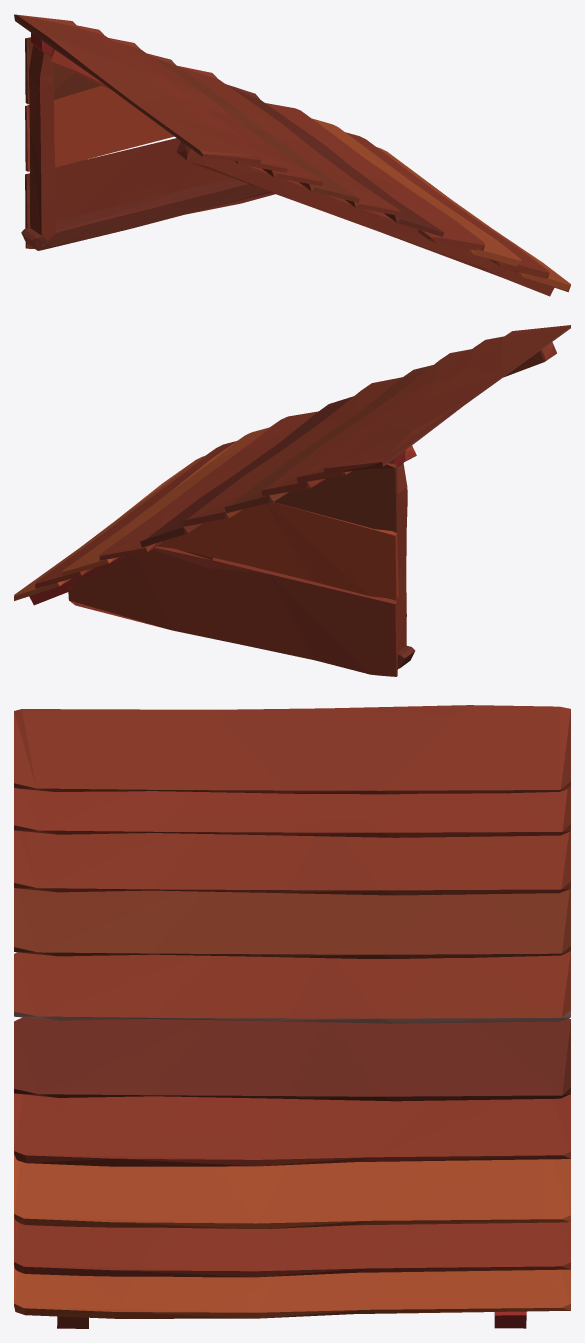
Rendered from Roof angle_1.fbx.
3 views of the same model, one above another, from view 1: azimuth 30°, elevation 25°; view 2: azimuth 150°, elevation 25°; view 3: azimuth 270°, elevation 25° (orthographic). The views are drawn at different scales.
Visible parts, largest first — view 1: Roof angle_1; view 2: Roof angle_1; view 3: Roof angle_1.
Part boxes in pixels (x1,y1,x2,y2): Roof angle_1: (14,14,570,296); Roof angle_1: (14,325,570,676); Roof angle_1: (14,705,570,1328).
Size of the model in its own units: 3.51 by 2.16 by 3.
